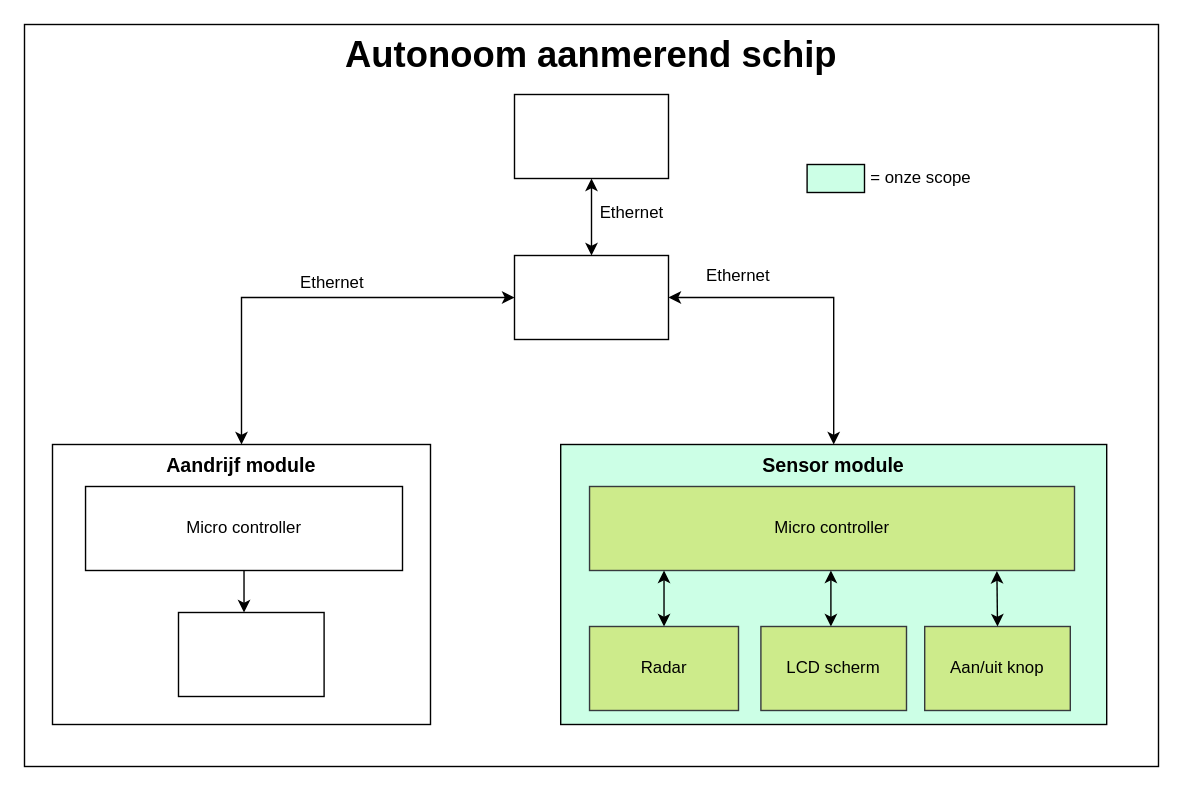
Image size: 1183x791. Some labels were removed from this diagram. The centre of each missing label's shape, as x and y in pixels:
Aandrijvings mechanismes: the point at 250,653
Centrale controle module: the point at 590,135
MQTT broker: the point at 590,297
